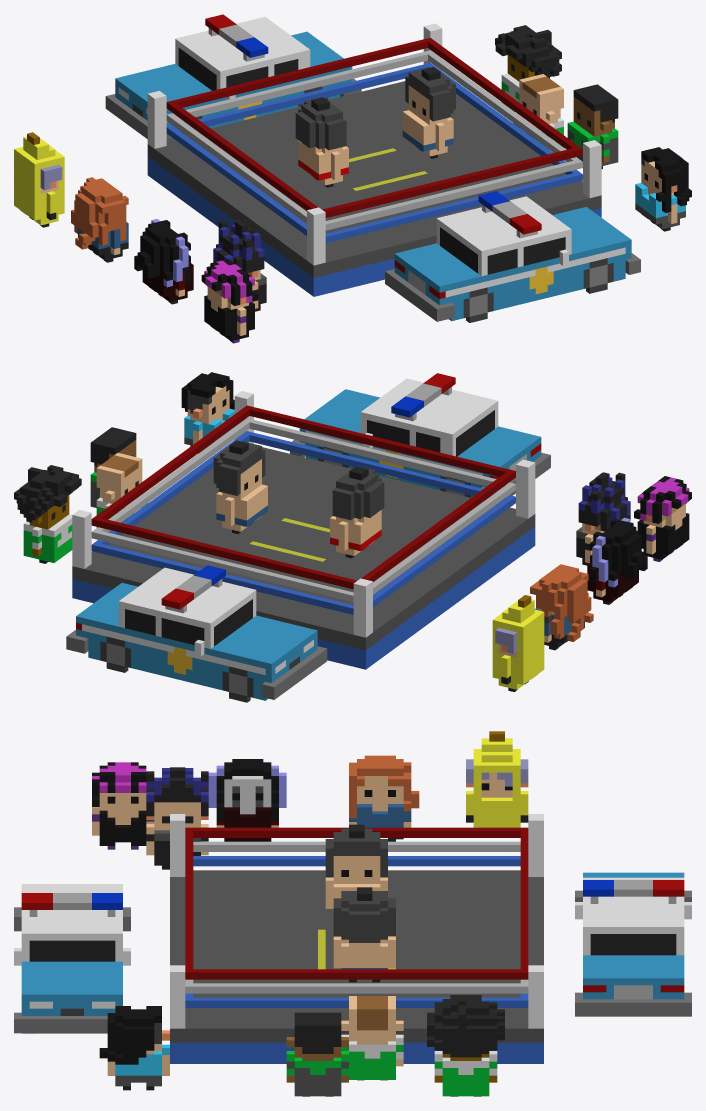
File: scene_sumo.obj
3 renders of one model, top to bottom at view 1: azimuth 30°, elevation 25°; view 2: azimuth 150°, elevation 25°; view 3: azimuth 270°, elevation 25°, orthographic. The views are drawn at different scales.
Size of the model in its own units: 85 by 18 by 87.
1 material, 1 textured.
